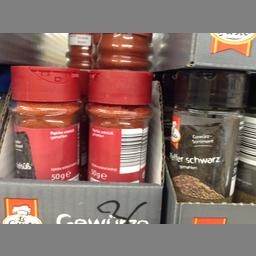spices: (168, 70, 245, 202), (7, 64, 81, 178), (81, 68, 151, 182)
